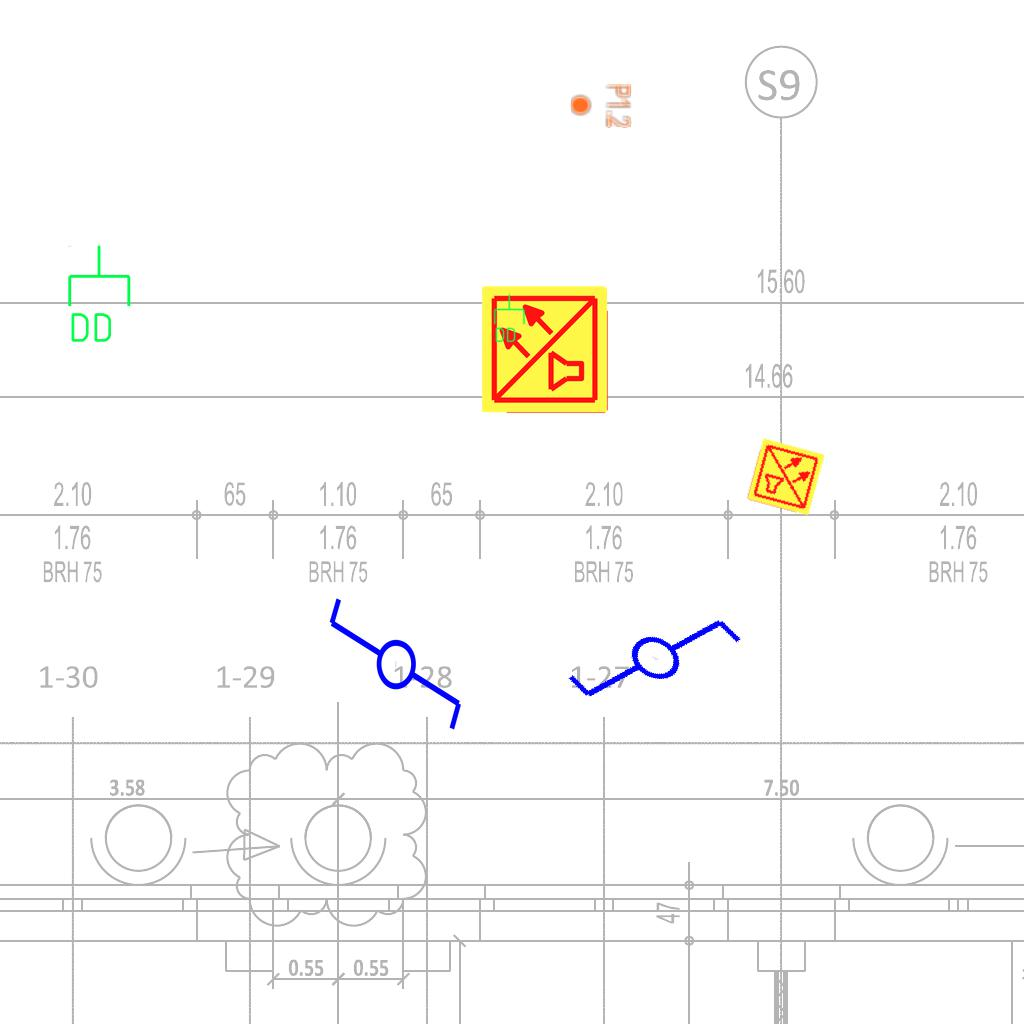Datenanschluss_zweifach: (64, 243, 133, 346), (492, 293, 526, 344)
Downlight_LED_Einbauleuchten_Flur: (569, 83, 633, 129)
OKW_Multisensormelder_(Kombination_optischer_Rauch-Kahlenmonoxid_Waerme-Melder): (479, 283, 611, 415), (745, 436, 827, 518)
Wechselschalter: (557, 562, 766, 766), (322, 594, 466, 751)
